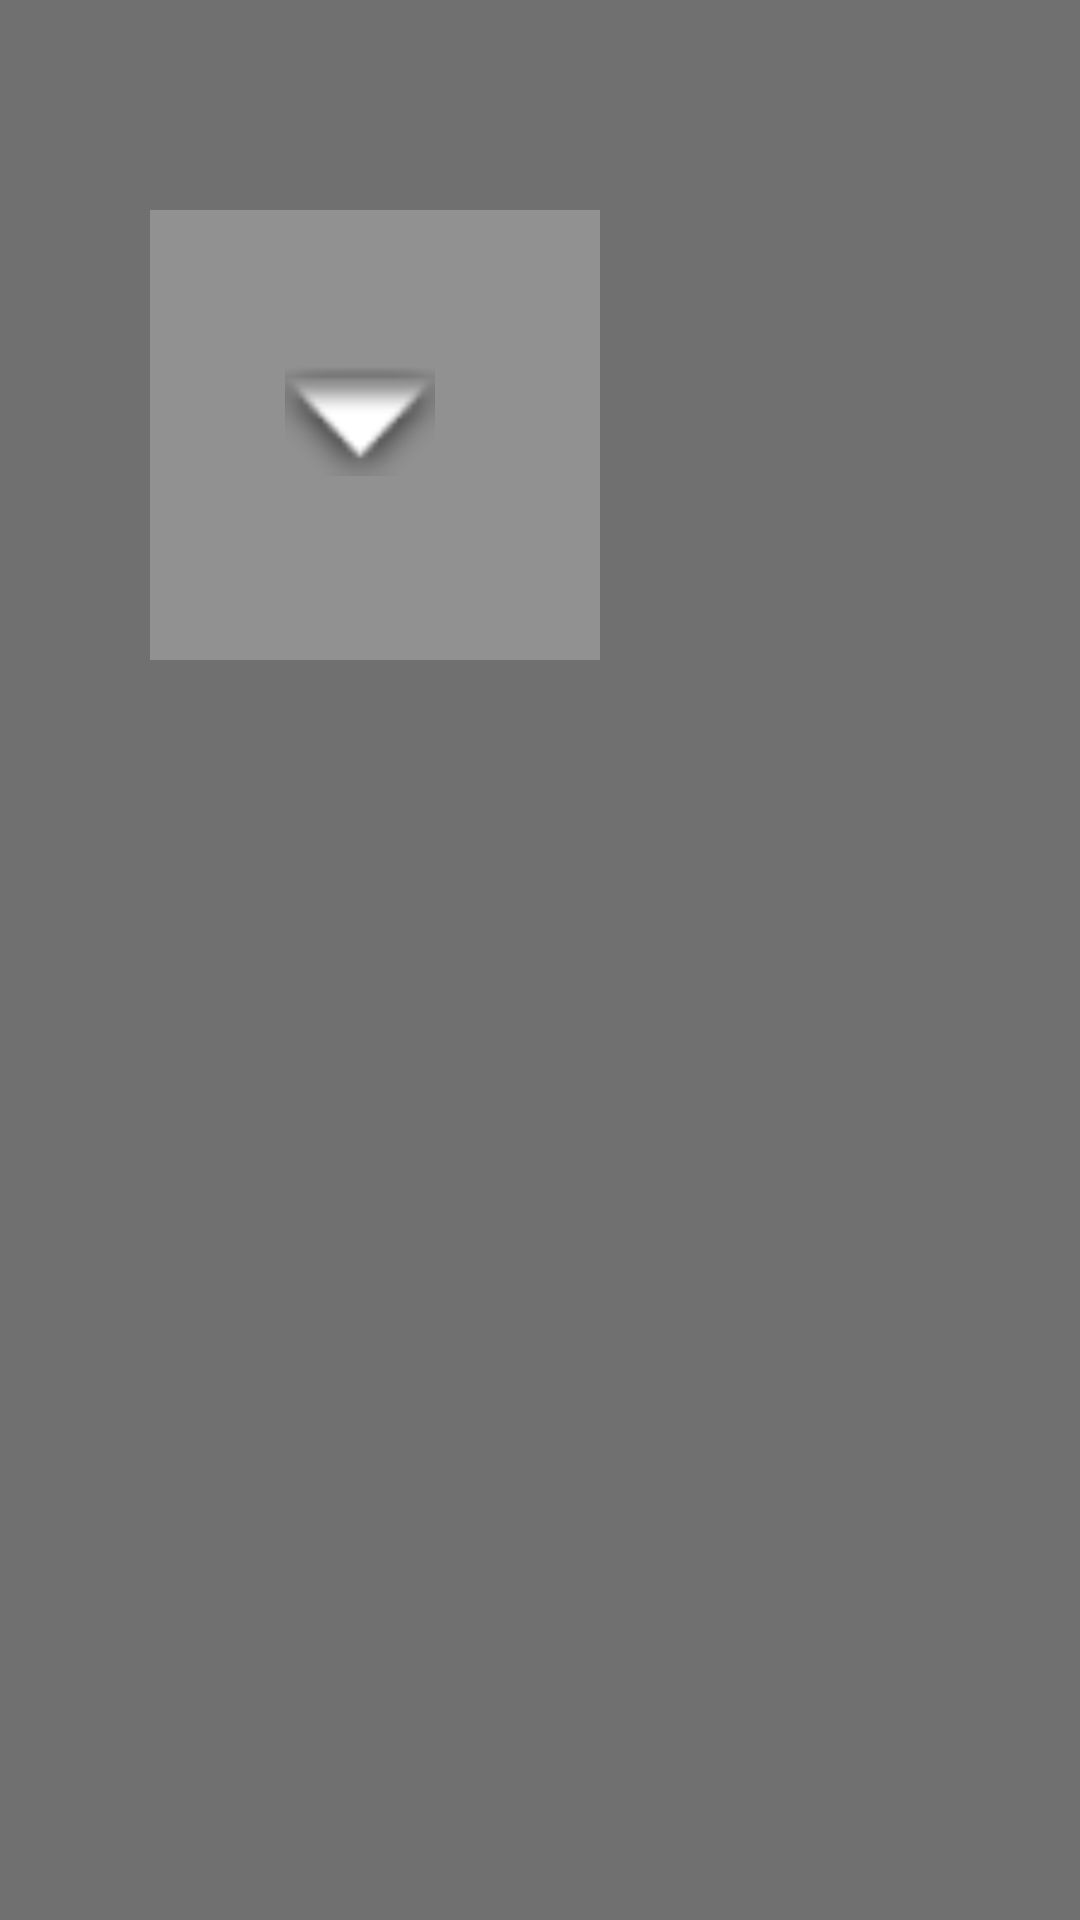

Where to tap for icons on this 1080px x 1920px app screen, as (x=x, y=y):
arrow down float: (x=360, y=419)
